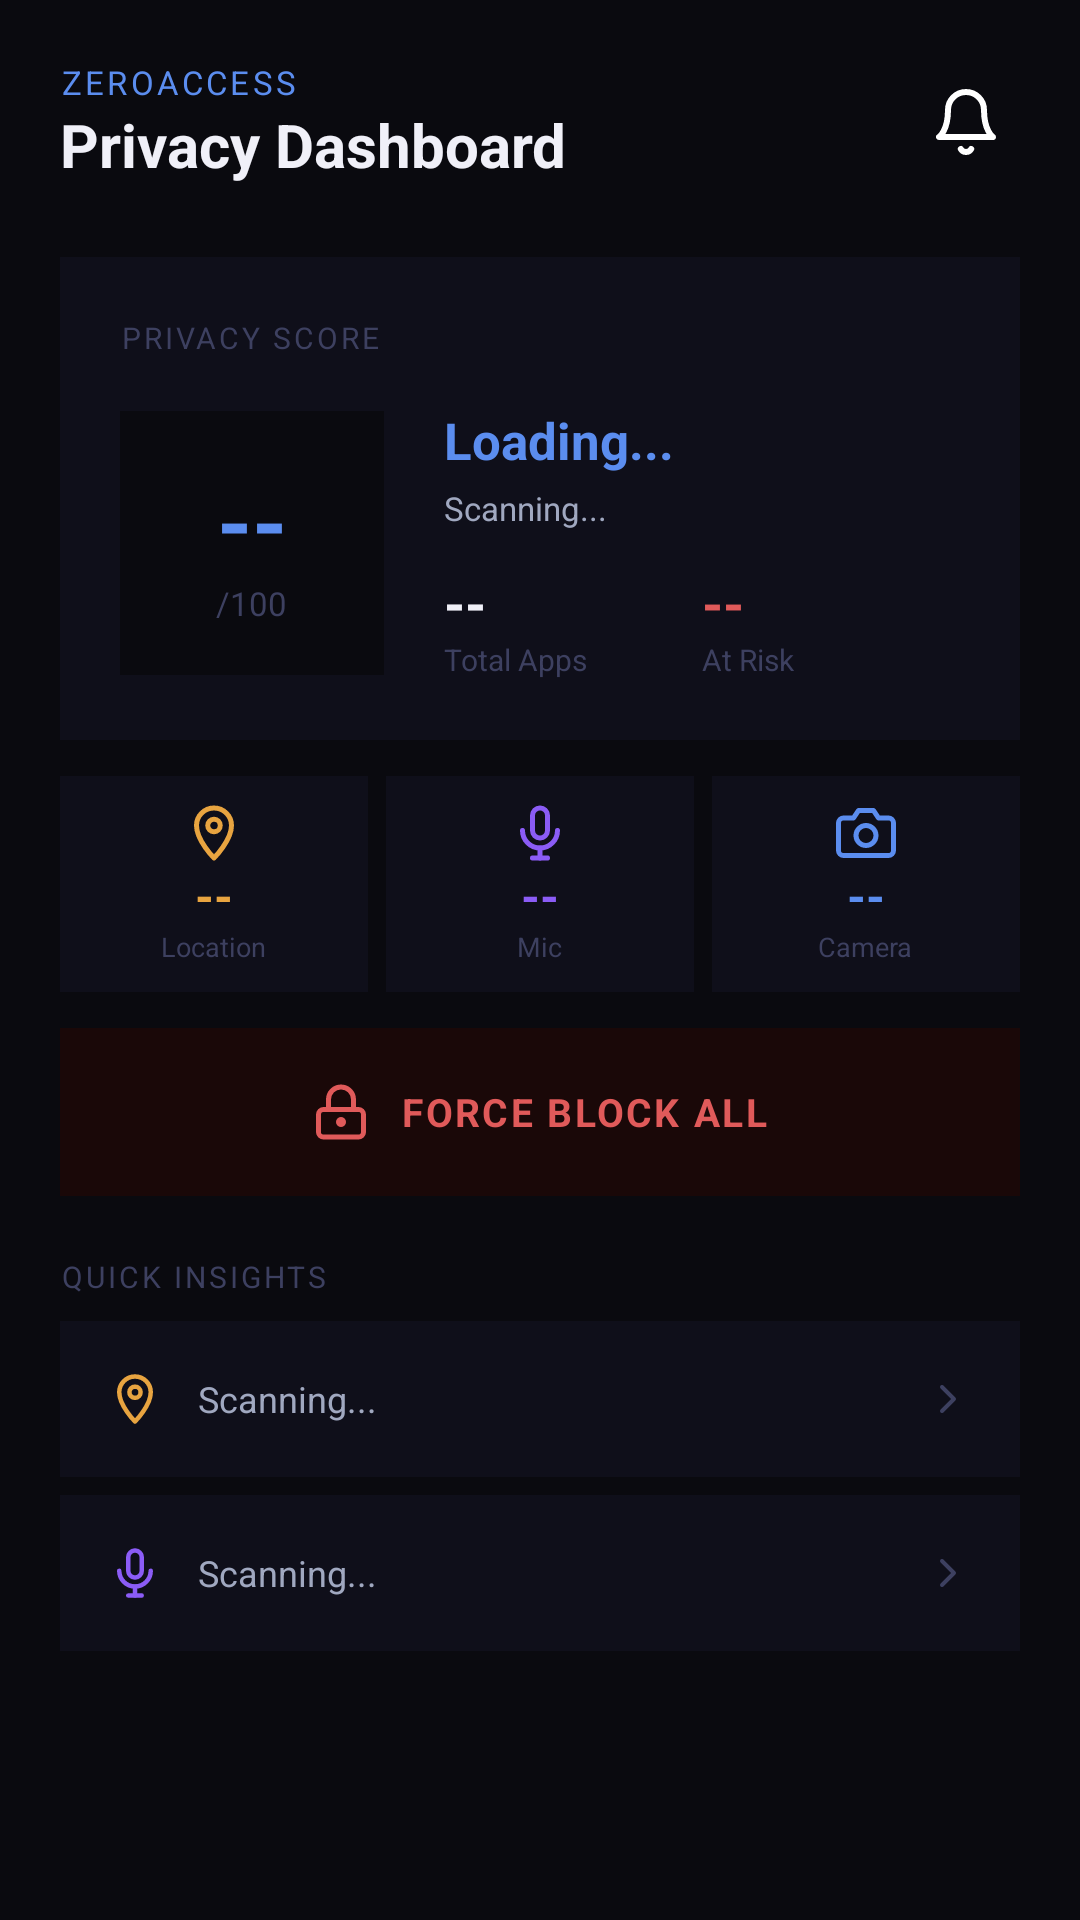

Icons on this 1080 x 1920 Android screen, each with the point to tap as point (x, y):
chevron right: point (948, 1399), point (948, 1573)
microphone: point (540, 833), point (135, 1573)
notification: point (966, 122)
